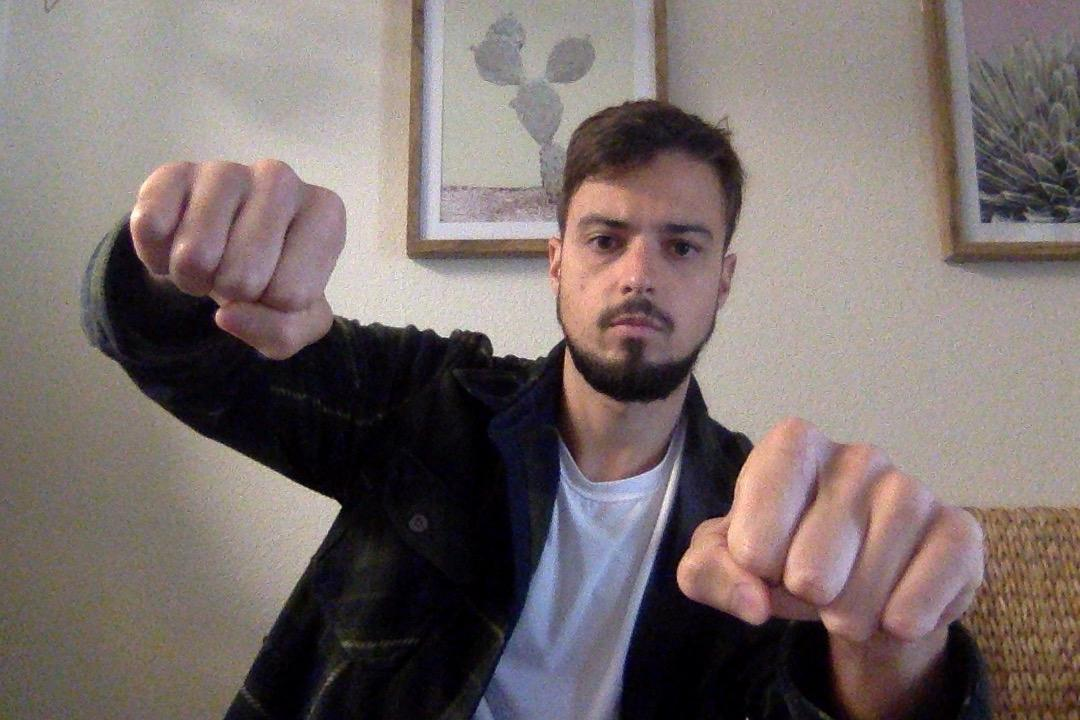Oncoming-Punch: (663, 420, 988, 668), (130, 151, 357, 370)
